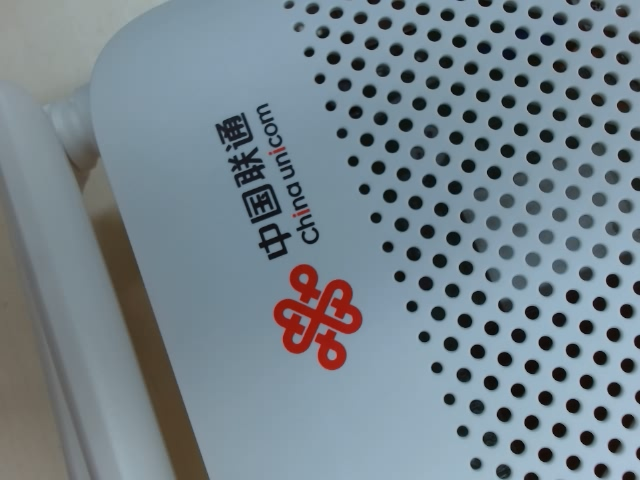AD_ChinaUnicom: (187, 95, 385, 379)
